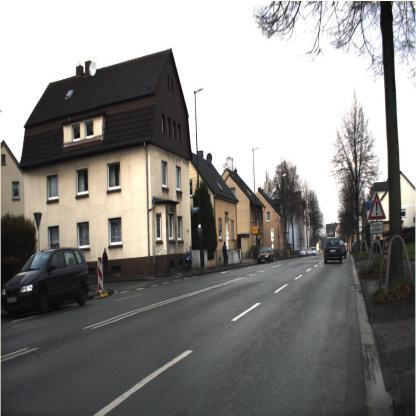danger: (362, 184, 388, 224)
